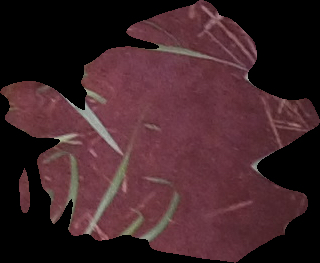soil: (1, 1, 318, 263)
